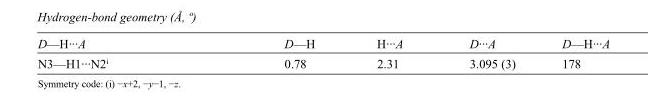table: (36, 36, 609, 69)
table column: (36, 36, 195, 69), (195, 36, 345, 69), (435, 36, 538, 69), (345, 36, 435, 69), (538, 36, 609, 69)
table row: (36, 36, 609, 53), (36, 53, 609, 69)
